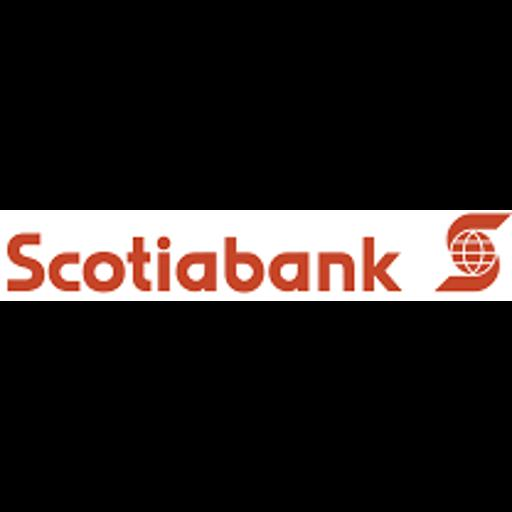Scotiabank: (0, 210, 512, 301)
